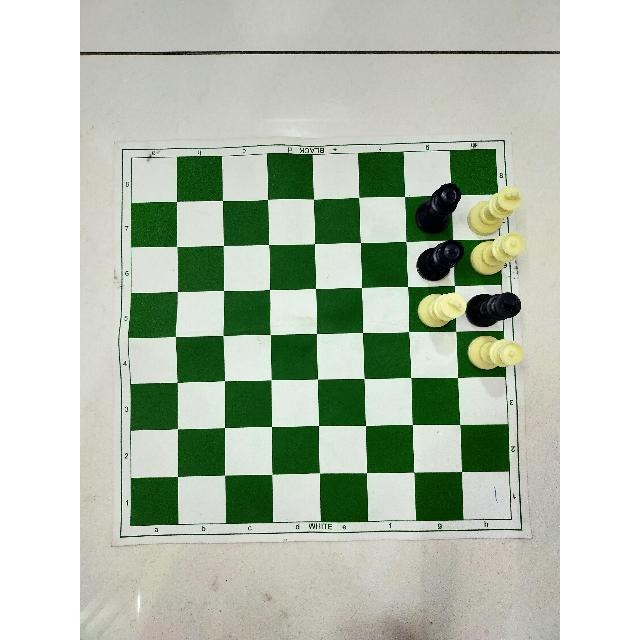black-king: (466, 290, 522, 327)
black-queen: (412, 182, 461, 235), (415, 239, 464, 281)
white-king: (466, 186, 523, 236), (414, 290, 466, 328)
white-queen: (469, 232, 527, 277), (468, 334, 524, 371)
